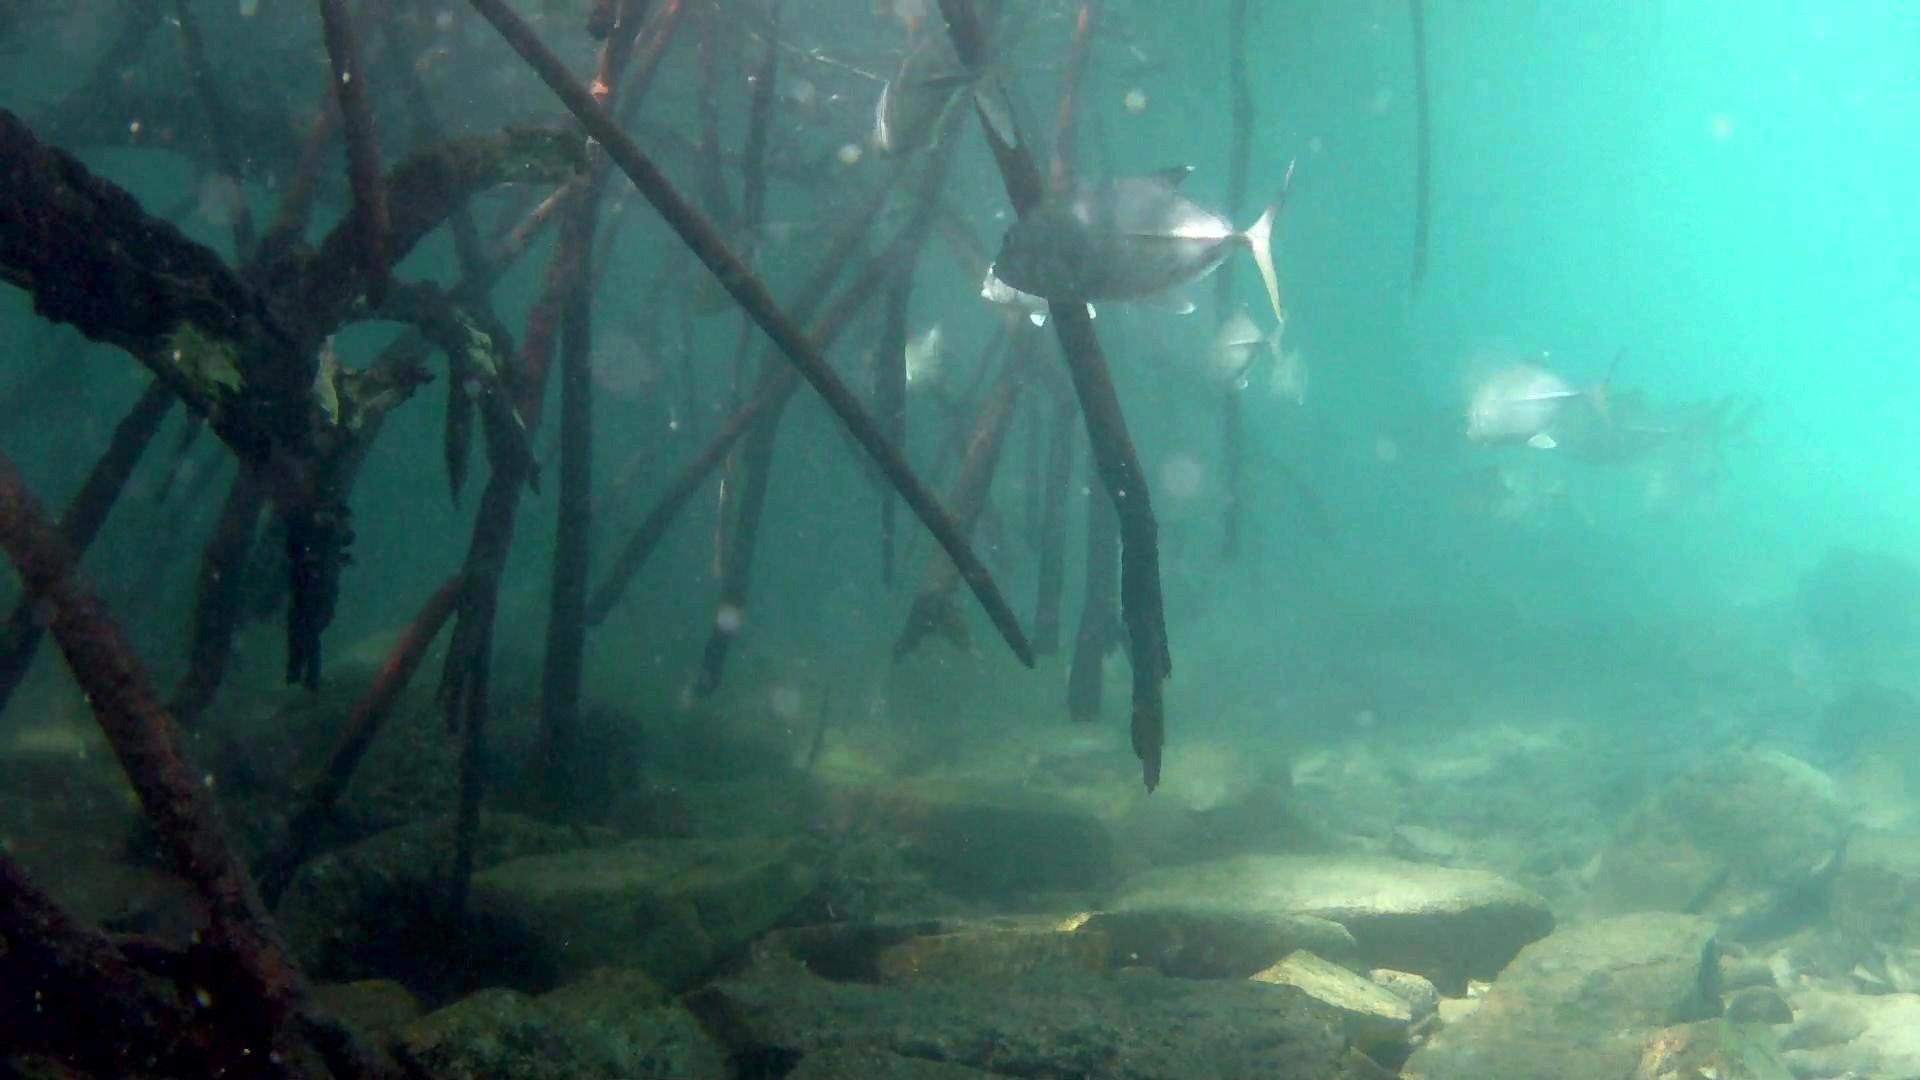caranx: (988, 148, 1309, 326)
